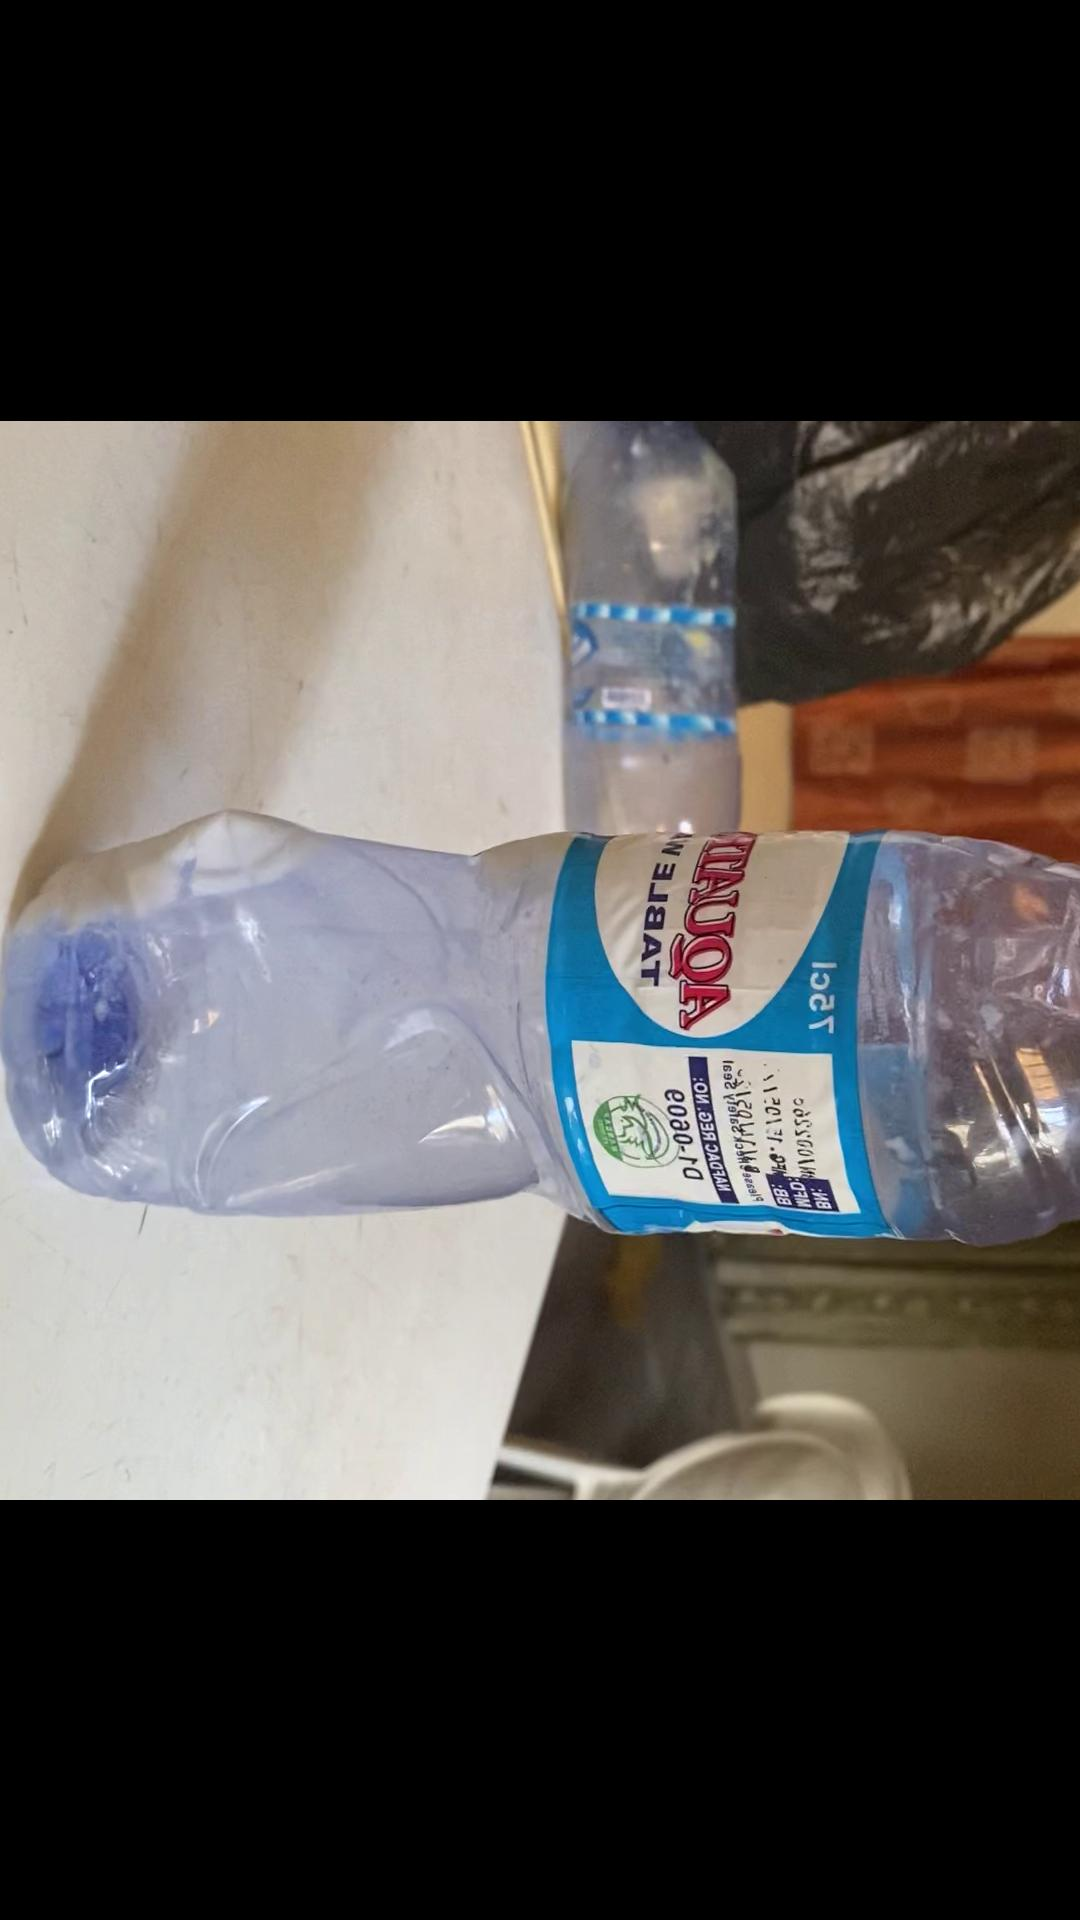crumbled: (0, 795, 1080, 1251)
label: (559, 823, 880, 1242)
